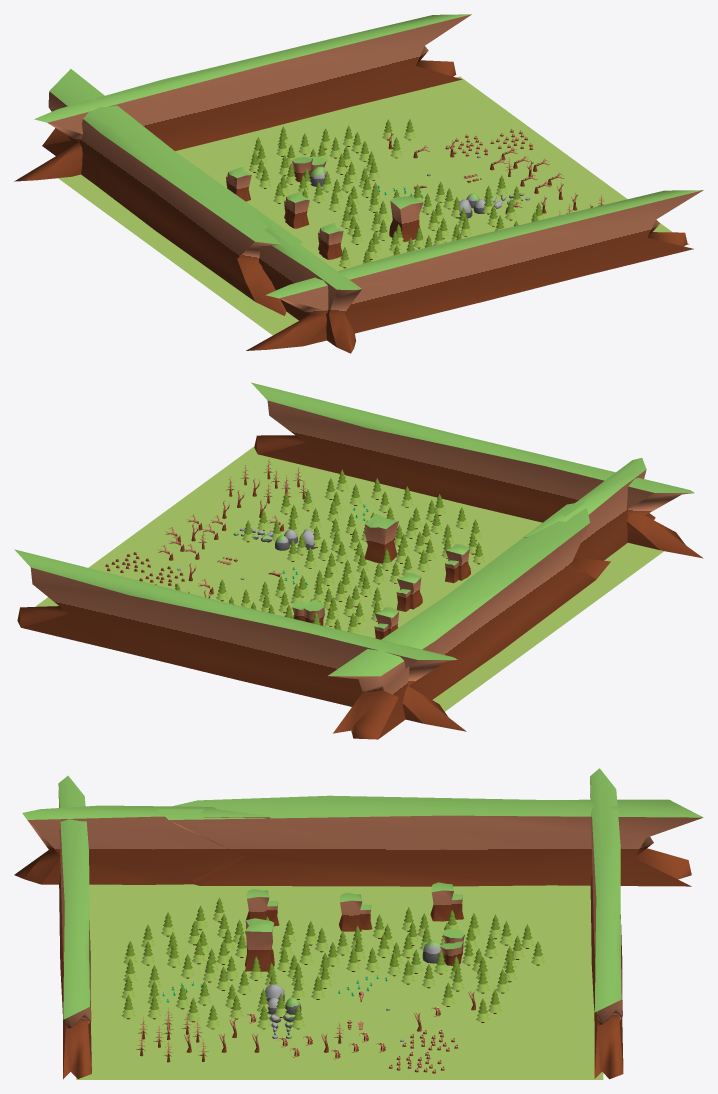
Rendered from lvl3.glb.
The picture shows the model from 3 angles, top to bottom: view 1: azimuth 30°, elevation 25°; view 2: azimuth 150°, elevation 25°; view 3: azimuth 270°, elevation 25°; orthographic projection. The views are drawn at different scales.
Visible parts, largest first — view 1: Plane, Ground.005, Ground.008, Ground.011, Ground.003, Ground.018, Ground.004, Ground.007, Ground.006; view 2: Plane, Ground.005, Ground.008, Ground.011, Ground.003, Ground.018, Ground.007, Ground.004, Ground.006, Ground.001; view 3: Plane, Ground.011, Ground.003, Ground.005, Ground.008, Ground.018, Ground.004, Ground.006, Ground.007, Ground.001.
Part boxes in pixels (x1,y1,x2,y2): Plane: (58, 76, 689, 335); Ground.005: (14, 14, 471, 181); Ground.008: (246, 190, 703, 350); Ground.011: (42, 69, 302, 315); Ground.003: (255, 208, 361, 353); Ground.018: (389, 195, 423, 241); Ground.004: (284, 191, 309, 228); Ground.007: (318, 223, 343, 259); Ground.006: (226, 167, 251, 201); Plane: (35, 447, 663, 711); Ground.005: (14, 549, 466, 731); Ground.008: (251, 382, 703, 558); Ground.011: (328, 501, 610, 739); Ground.003: (523, 458, 655, 560); Ground.018: (364, 513, 398, 563); Ground.007: (445, 544, 470, 583); Ground.004: (396, 573, 422, 611); Ground.006: (374, 607, 398, 639); Ground.001: (292, 601, 323, 625); Plane: (76, 884, 603, 1079); Ground.011: (158, 795, 703, 886); Ground.003: (14, 805, 270, 884); Ground.005: (590, 768, 623, 1079); Ground.008: (58, 776, 91, 1079); Ground.018: (245, 918, 274, 971); Ground.004: (339, 892, 372, 931); Ground.006: (430, 882, 464, 921); Ground.007: (246, 889, 279, 926); Ground.001: (440, 929, 464, 965).
Size of the model in its own units: 137 by 19.11 by 158.
Materials: 190 (190 with a texture image).
